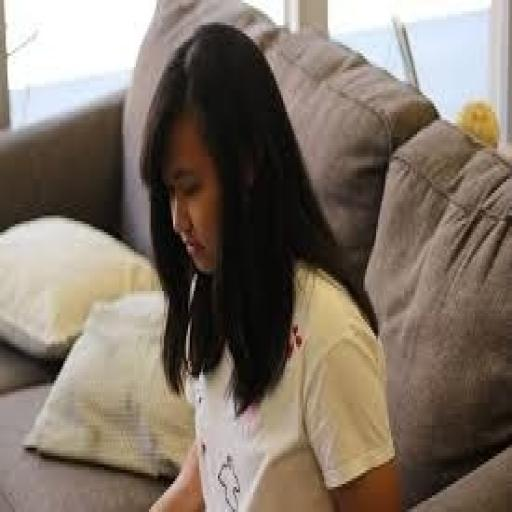sitting: (132, 17, 404, 509)
